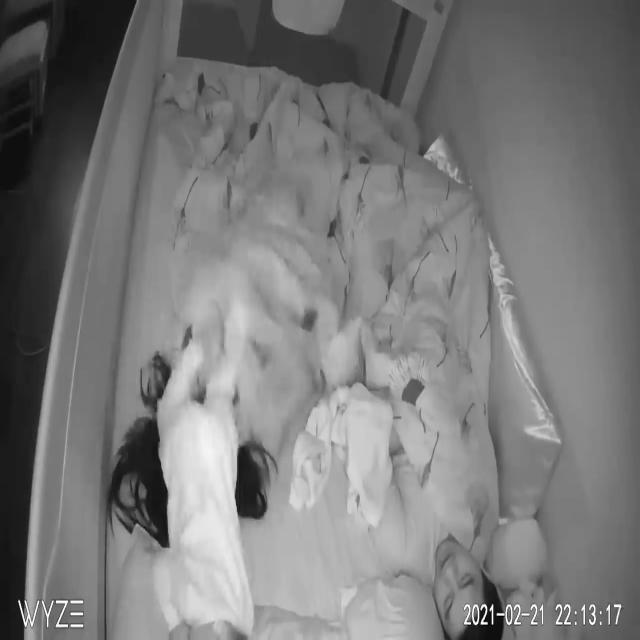baby: (152, 346, 256, 640)
